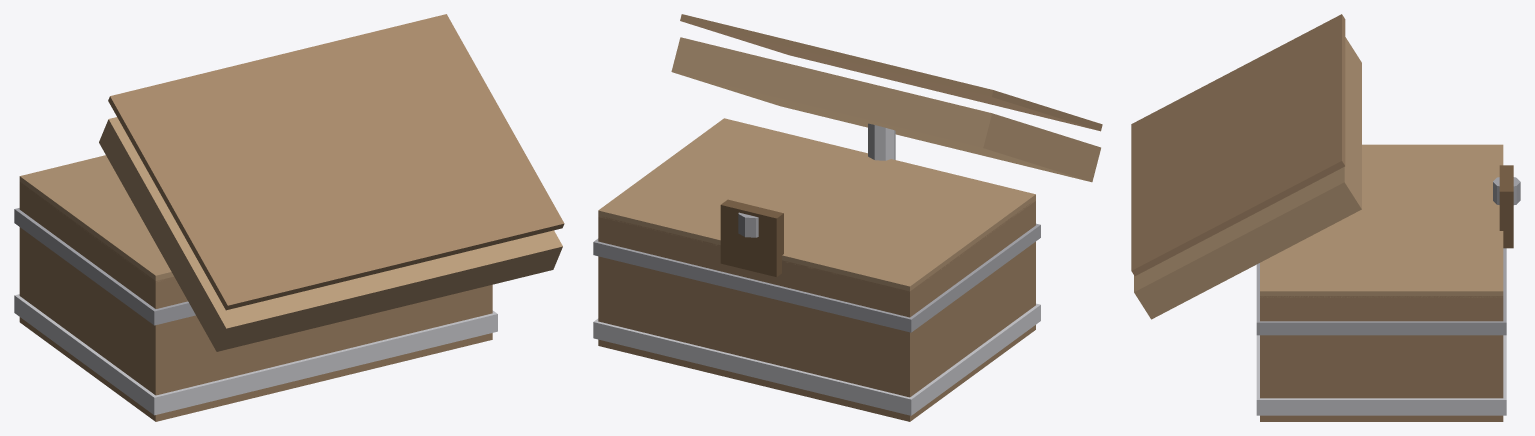
Rendered from chest_1.glb.
3 renders of one model, left to right at view 1: azimuth 30°, elevation 25°; view 2: azimuth 150°, elevation 25°; view 3: azimuth 270°, elevation 25°, orthographic. The views are drawn at different scales.
Visible parts, largest first — view 1: chest_tilt30; view 2: chest_tilt30; view 3: chest_tilt30.
Part boxes in pixels (x1=…): chest_tilt30: x1=14, y1=14, x2=564, y2=421; chest_tilt30: x1=593, y1=14, x2=1102, y2=421; chest_tilt30: x1=1131, y1=14, x2=1520, y2=421.
Size of the model in its own units: 1.02 by 0.8296 by 1.12.
